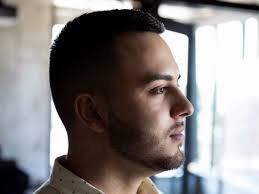black_male: (62, 18, 199, 184)
